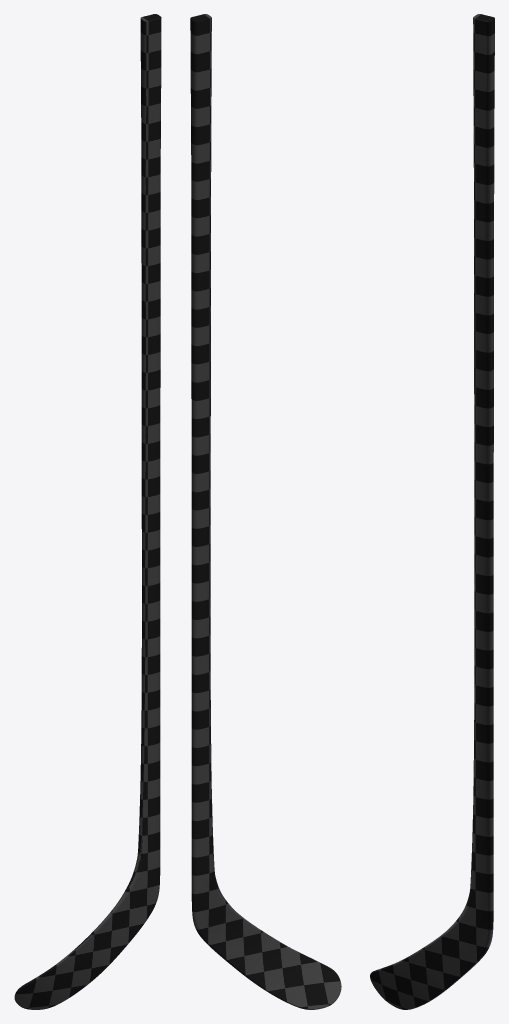
The model's file is P85-SBO.glb.
3 views of the same model, side by side, from view 1: azimuth 30°, elevation 25°; view 2: azimuth 210°, elevation 25°; view 3: azimuth 330°, elevation 25° (orthographic). The views are drawn at different scales.
Parts seen in each view (by area): view 1: geometry_0; view 2: geometry_0; view 3: geometry_0.
Part boxes in pixels (x1,y1,x2,y2): geometry_0: (14, 14, 161, 1009); geometry_0: (190, 14, 341, 1009); geometry_0: (370, 14, 494, 1009).
Size of the model in its own units: 230 by 1650 by 61.45.
Materials: 1 (1 with a texture image).
